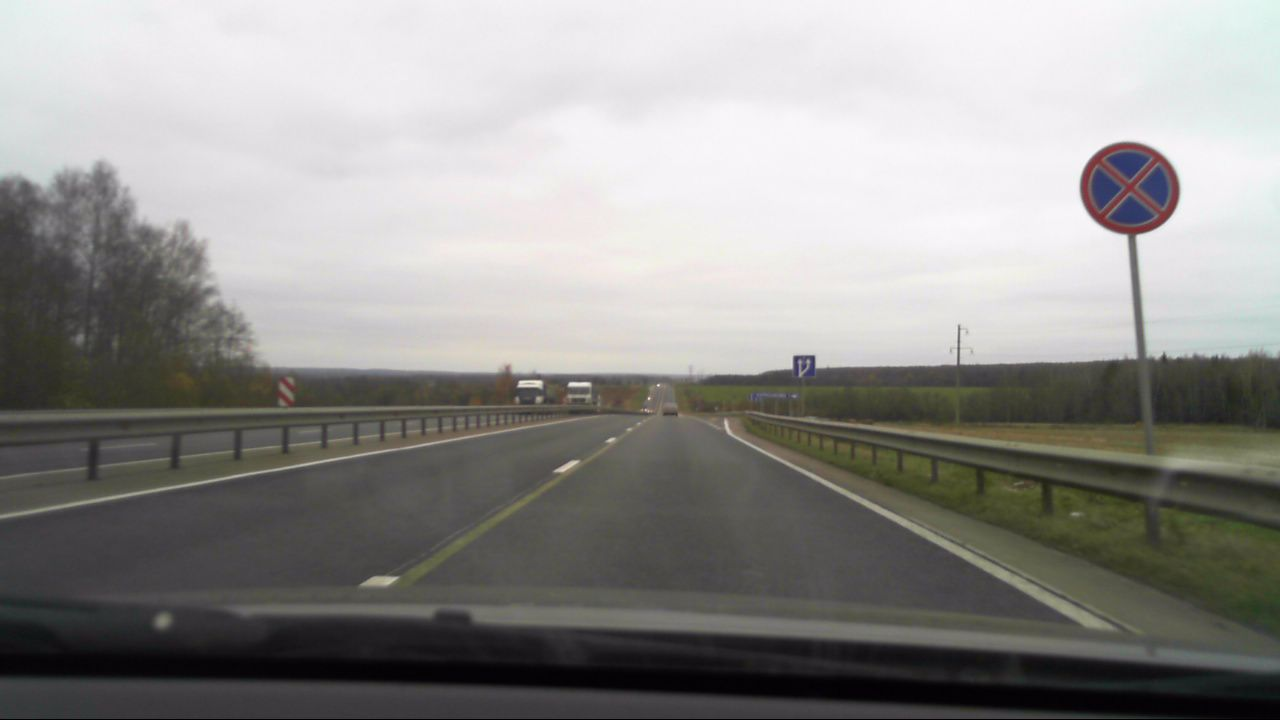No Parking: (1079, 141, 1179, 233)
